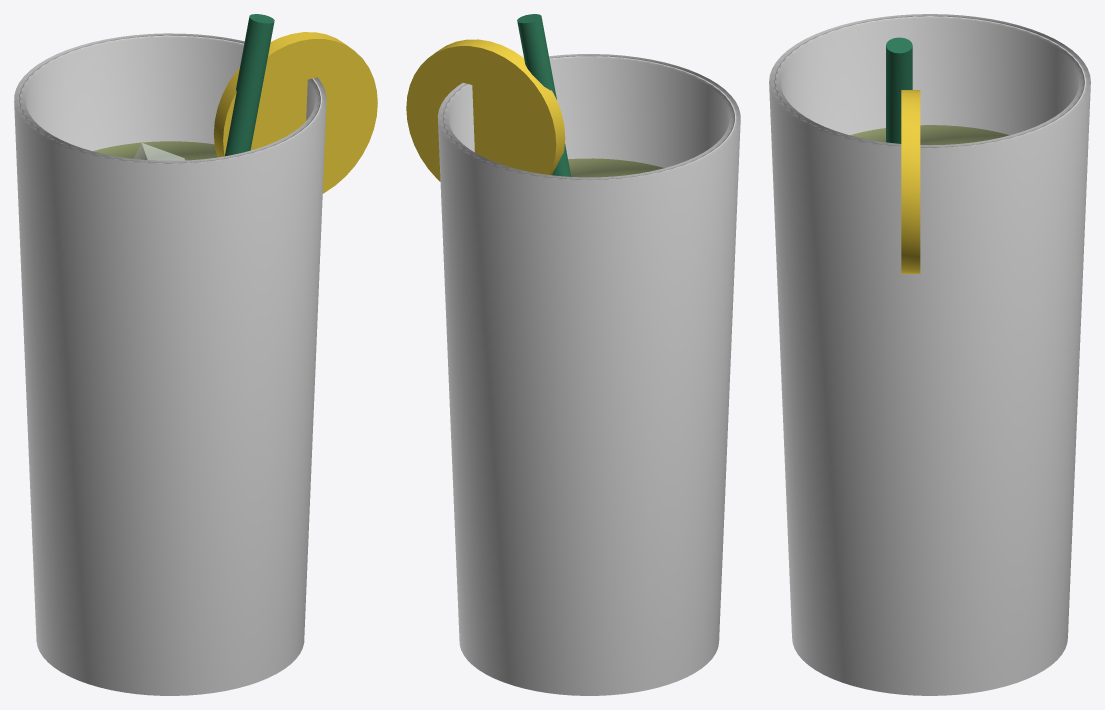
Rendered from limonada-suica.glb.
3 views of the same model, side by side, from view 1: azimuth 30°, elevation 25°; view 2: azimuth 150°, elevation 25°; view 3: azimuth 270°, elevation 25° (orthographic). The views are drawn at different scales.
Parts seen in each view (by area): view 1: glass, lemon, straw, lemonade; view 2: glass, lemon, straw, lemonade; view 3: glass, lemon, straw, lemonade.
Part boxes in pixels (<box>): glass: <box>14,33,326,695</box>; lemon: <box>213,32,377,193</box>; straw: <box>225,14,274,156</box>; lemonade: <box>93,141,217,160</box>; glass: <box>437,54,740,695</box>; lemon: <box>406,39,565,181</box>; straw: <box>517,14,571,176</box>; lemonade: <box>568,158,664,177</box>; glass: <box>769,14,1090,695</box>; lemon: <box>901,90,920,273</box>; straw: <box>886,37,912,143</box>; lemonade: <box>850,125,1009,145</box>.
Bounding box in the file's own units: 0.102 × 0.1823 × 0.084.
